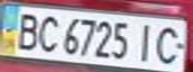2: (93, 17, 115, 60)
5: (109, 19, 136, 61)
6: (57, 15, 81, 56)
7: (75, 16, 96, 57)
B: (9, 10, 42, 52)
C: (148, 23, 190, 66), (33, 12, 63, 53)
I: (130, 20, 160, 63)
